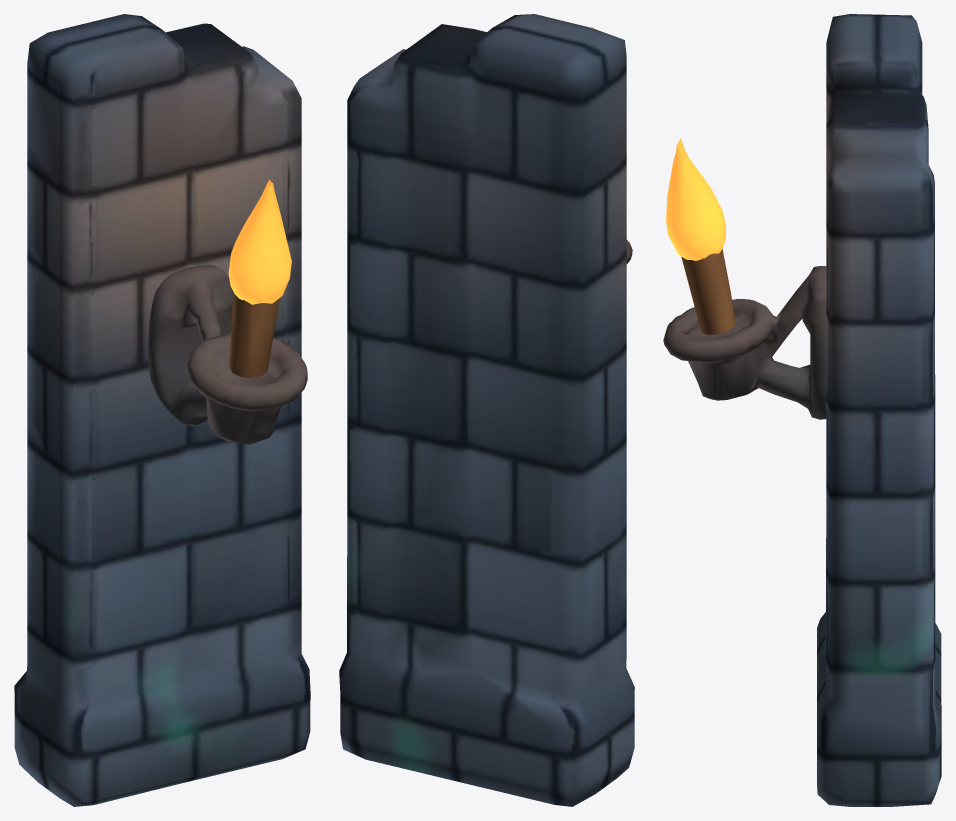
File: torch-sconce.glb
3 views of the same model, side by side, from view 1: azimuth 30°, elevation 25°; view 2: azimuth 150°, elevation 25°; view 3: azimuth 270°, elevation 25° (orthographic). The views are drawn at different scales.
Visible parts, largest first — view 1: stone, flame; view 2: stone; view 3: stone, flame.
Boxes of the visible parts, x1,y1,x2,y2 form: stone: (14,14,310,806); flame: (228,180,291,304); stone: (339,14,634,806); stone: (663,14,941,806); flame: (666,138,725,260).
Bounding box in the file's own units: 0.4129 × 1.2 × 0.4361.
Materials: 2 (2 with a texture image).
